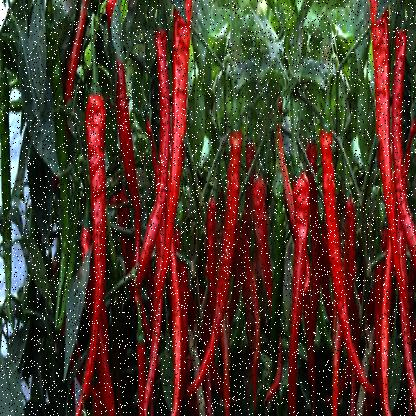chili: (320, 135, 377, 397), (196, 138, 245, 380), (80, 79, 111, 387), (166, 0, 194, 312)
